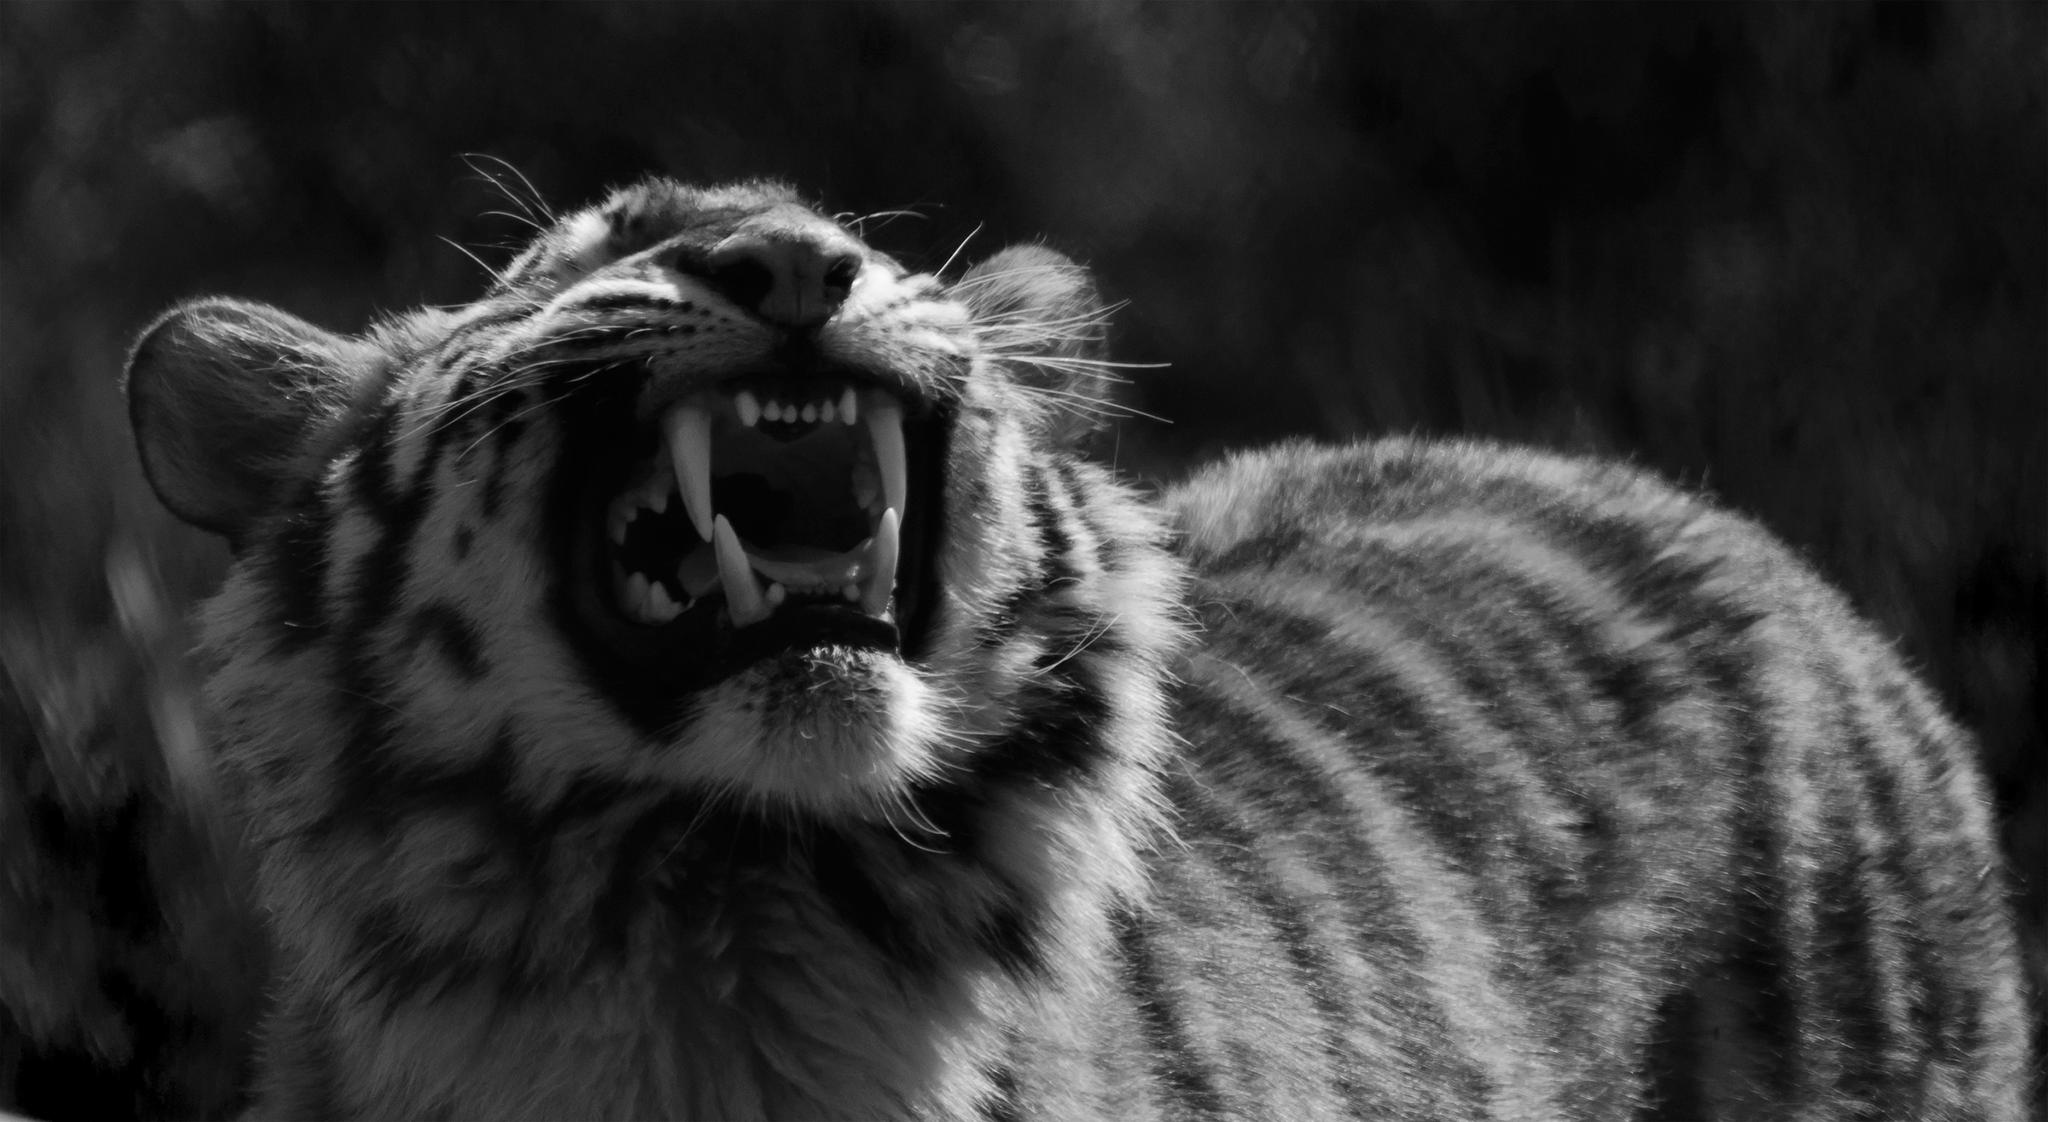tiger: (149, 146, 1980, 1114)
